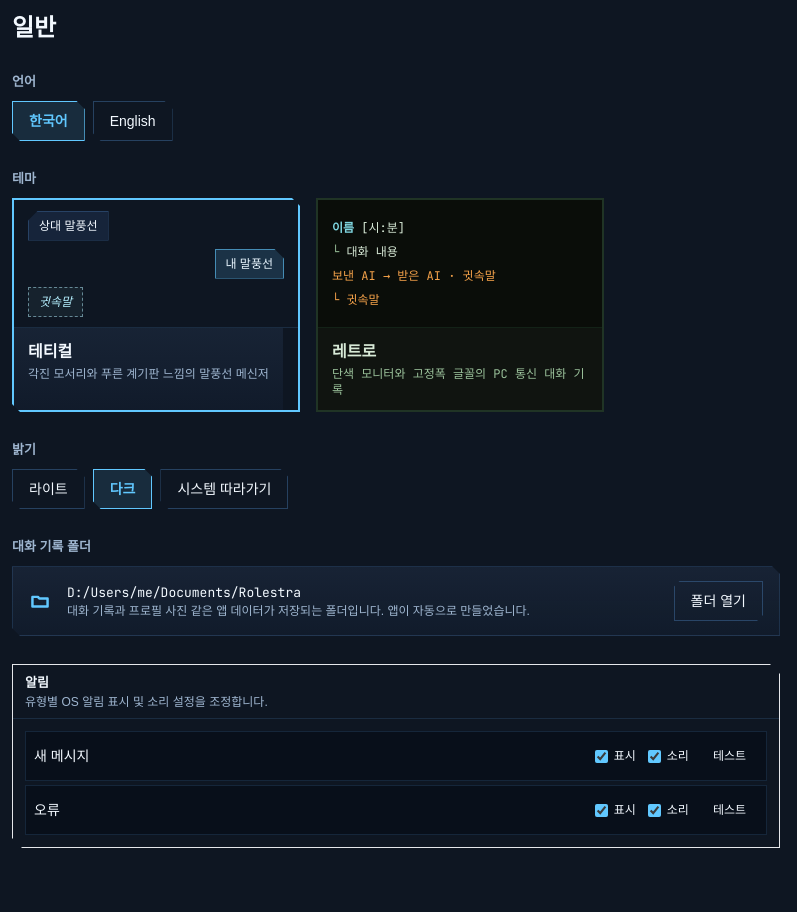
it: GeneralTab — language › shows a failed save instead of pretending it worked
Click the radio button with test id "settings-language-option". click: (133, 121)
box: 93,101 -> 172,141
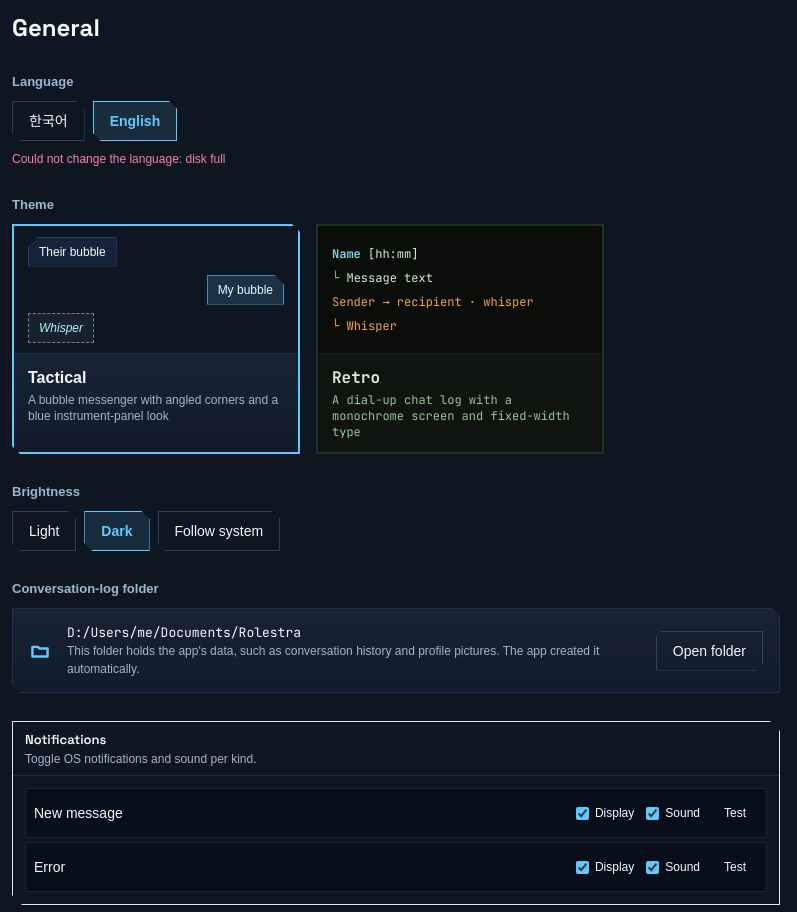
Now the message with test id "settings-language-error" shows "disk full", box 12,152 -> 226,166
